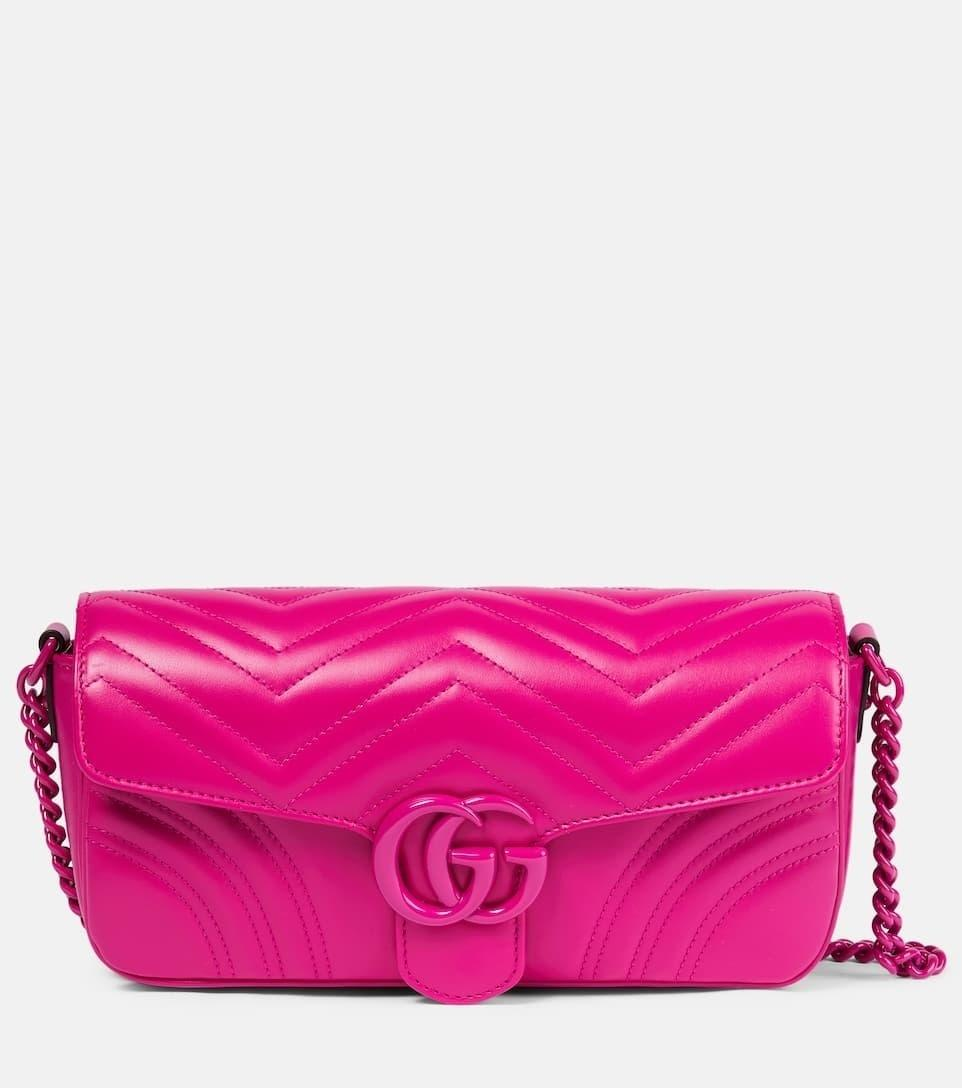GUCCI: (371, 792, 548, 927)
